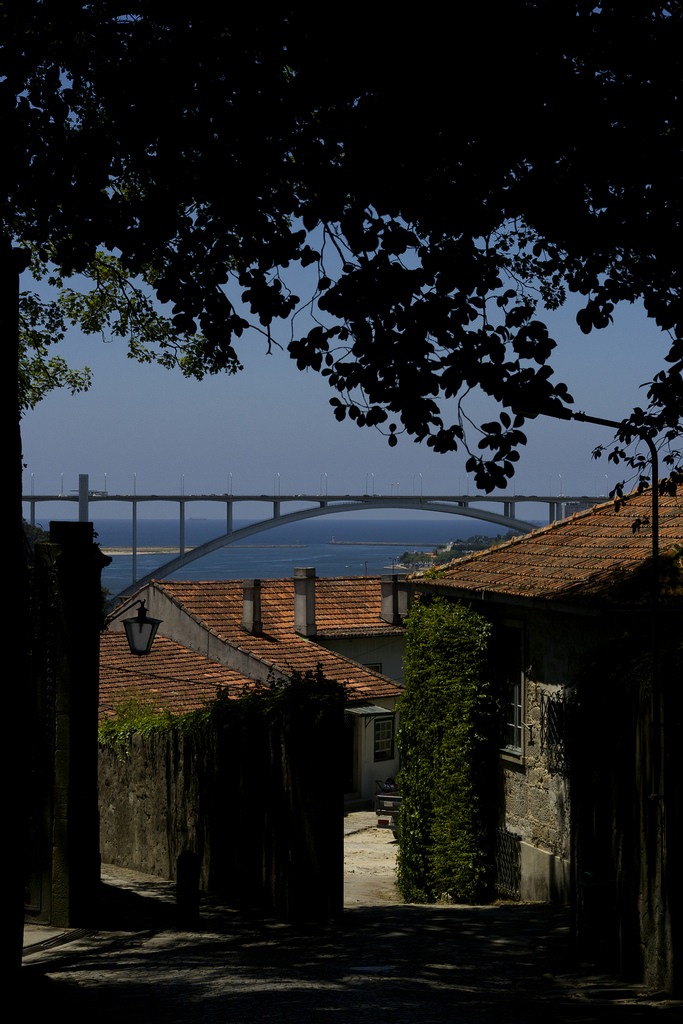arrabida: (22, 471, 615, 635)
